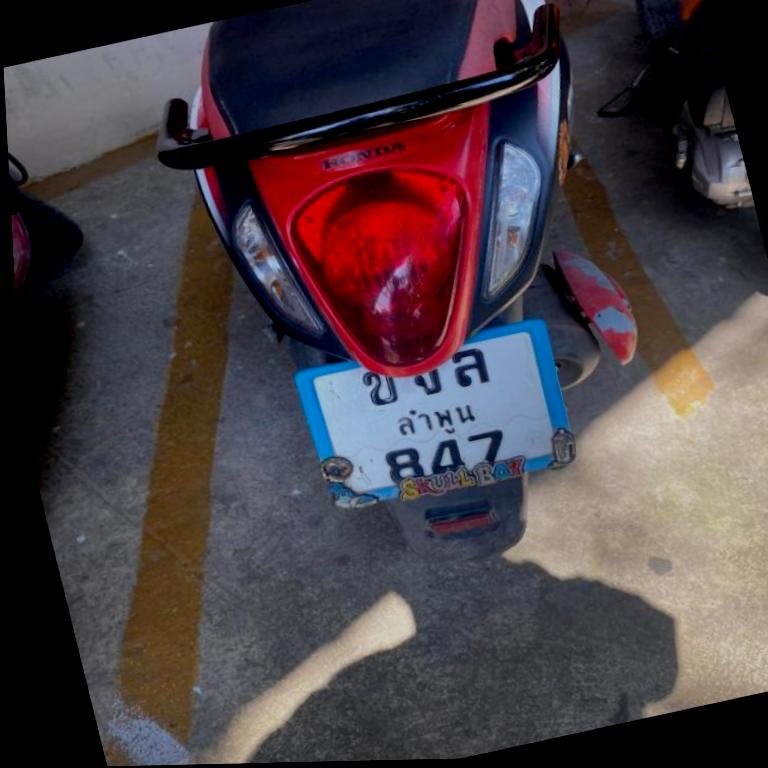license plate: (298, 321, 568, 502)
